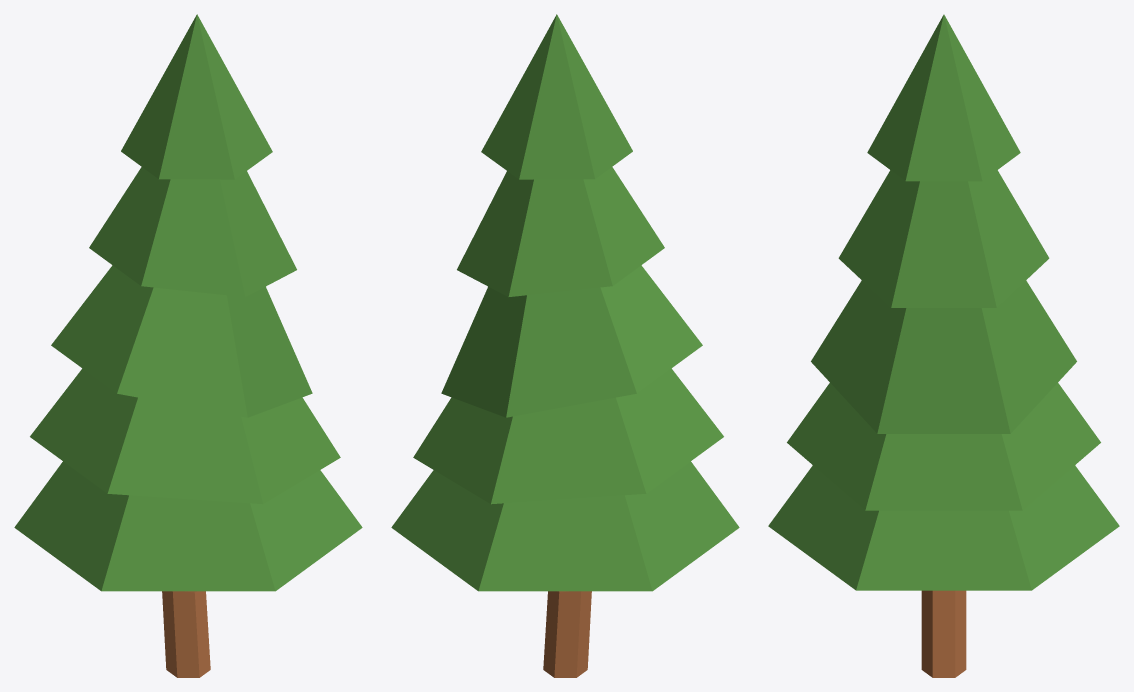
File: tree_type_02.fbx
3 views of the same model, side by side, from view 1: azimuth 30°, elevation 25°; view 2: azimuth 150°, elevation 25°; view 3: azimuth 270°, elevation 25° (orthographic).
Parts seen in each view (by area): view 1: tree_type_02; view 2: tree_type_02; view 3: tree_type_02.
Boxes of the visible parts, <box> form: tree_type_02: <box>14,14,362,677</box>; tree_type_02: <box>391,14,739,677</box>; tree_type_02: <box>768,14,1119,677</box>.
Size of the model in its own units: 184 by 439 by 212.
1 material, 1 textured.
